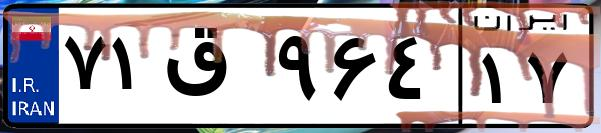1: (475, 38, 525, 113), (110, 28, 158, 98)
4: (385, 28, 445, 110)
6: (330, 28, 385, 110)
7: (57, 26, 110, 100), (525, 38, 570, 115)
9: (270, 28, 330, 110)
ق: (158, 20, 270, 120)
